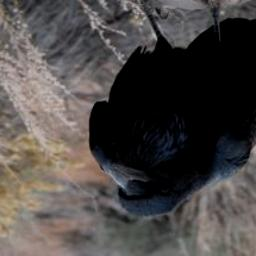Crow: (85, 0, 256, 220)
